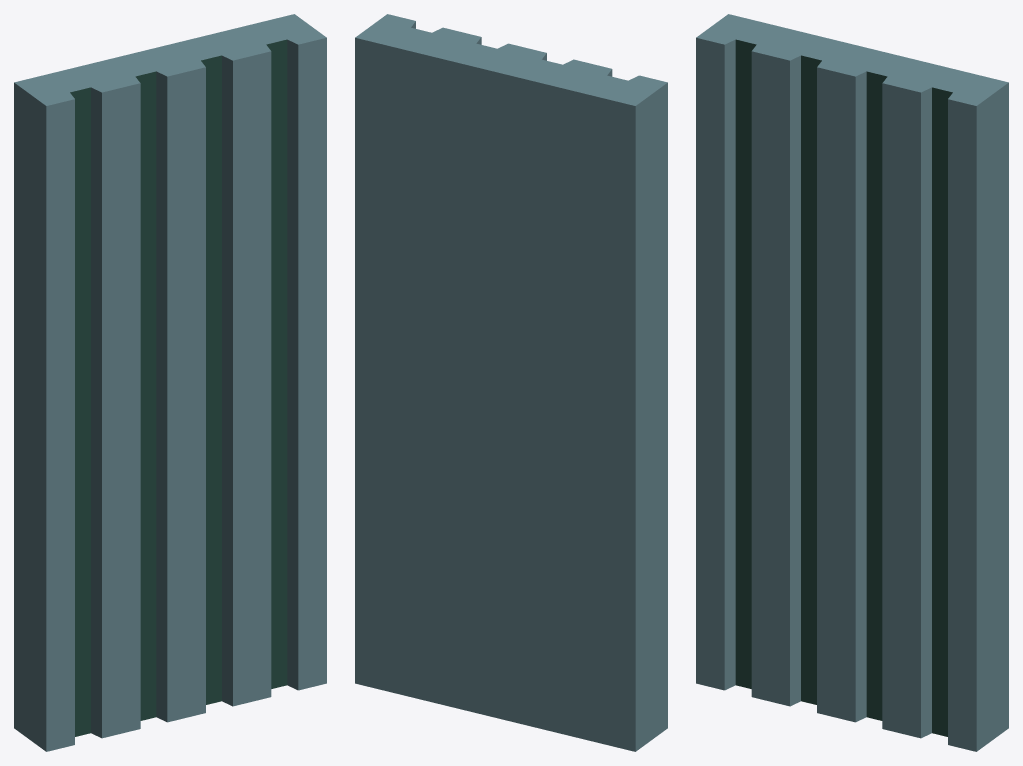
Rendered from W1_Wall_Ridge2.fbx.
3 views of the same model, side by side, from view 1: azimuth 30°, elevation 25°; view 2: azimuth 150°, elevation 25°; view 3: azimuth 330°, elevation 25° (orthographic).
Parts seen in each view (by area): view 1: W1_Wall_Ridge2.001; view 2: W1_Wall_Ridge2.001; view 3: W1_Wall_Ridge2.001.
Boxes of the visible parts, x1,y1,x2,y2 form: W1_Wall_Ridge2.001: (14, 14, 326, 751); W1_Wall_Ridge2.001: (355, 14, 667, 751); W1_Wall_Ridge2.001: (696, 14, 1008, 751).
Size of the model in its own units: 1 by 2.2 by 0.2.
